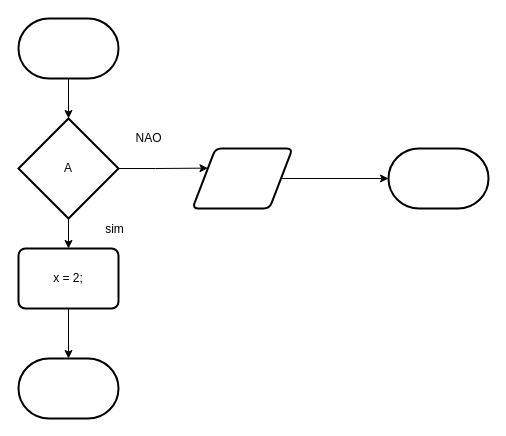
The diagram is 506 pixels wide and 436 high, and some of its shapes have lost their labels. Each missing label, with the centre of its shape:
FIM: [68,388]
IINICIO: [68,48]
